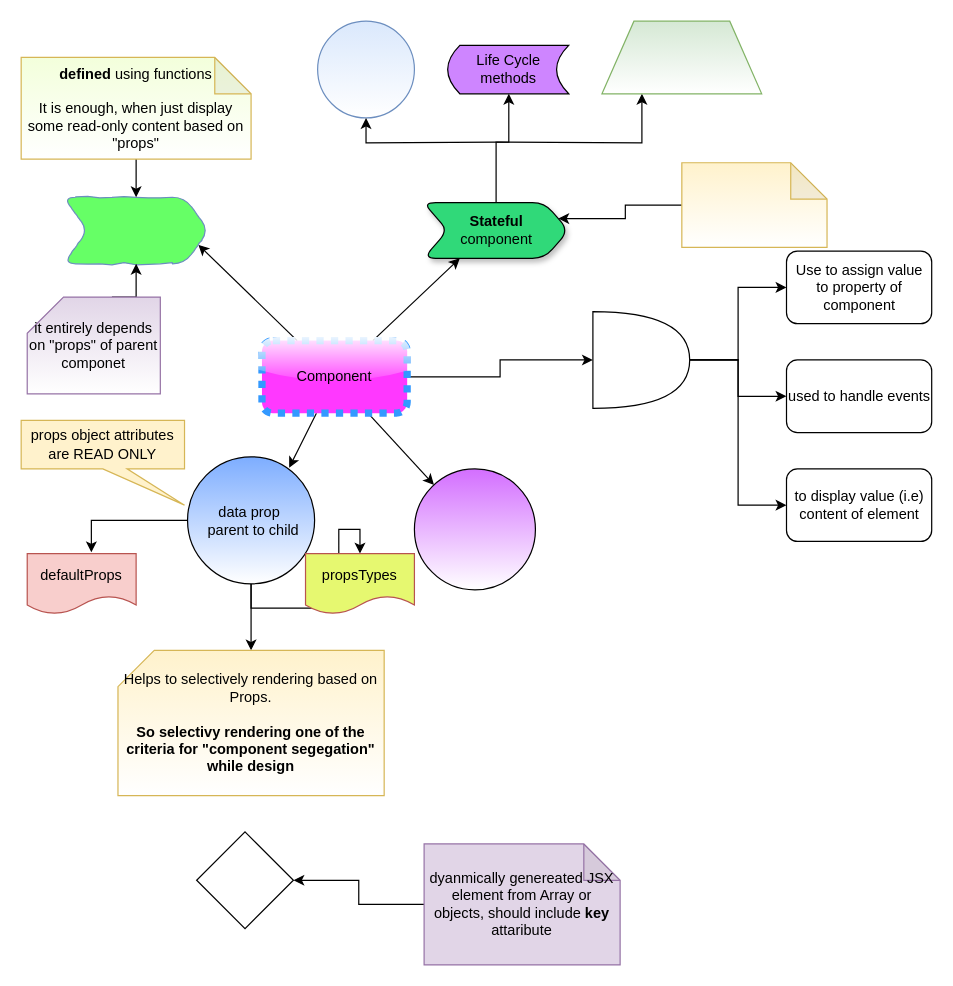
This 953x986 diagram has some shape labels left out. Here are the shapes that lost their labels. From the top down, the centre of each, then its label:
point 365,69: state data, it defined by constructor
point 681,57: it depends on " render " method for content display
point 754,204: defined using "class" or Hooks
point 135,230: Functional component ( stateless )
point 641,359: expression
point 474,529: func prop - child call to notify parent
point 244,880: Key
